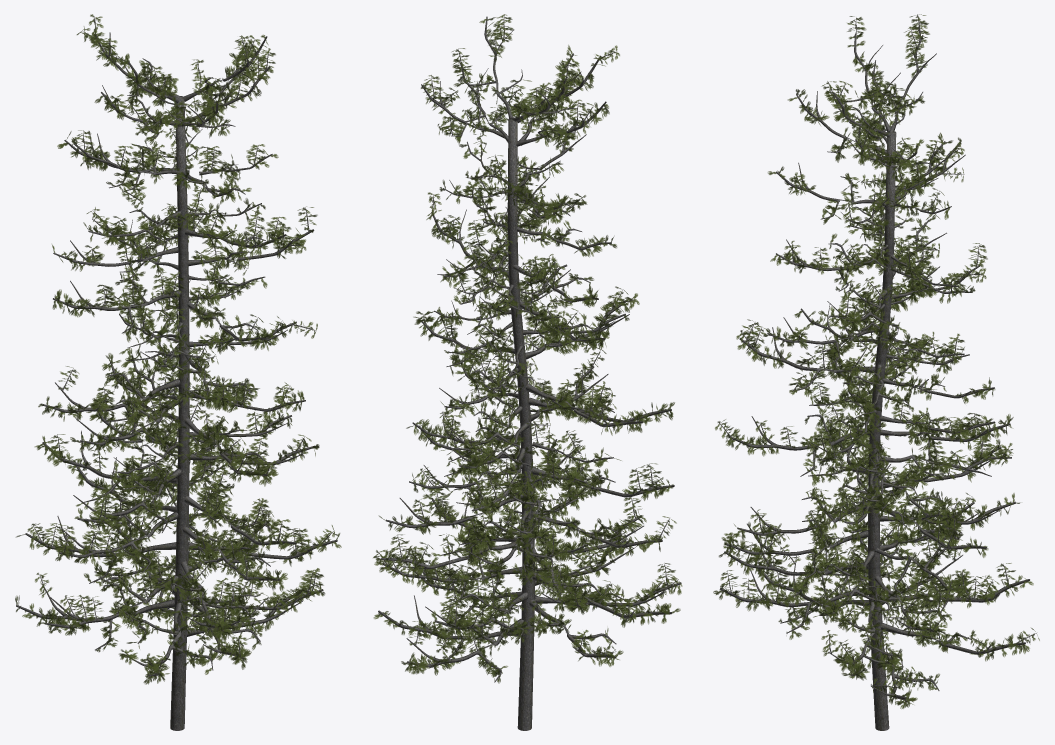
File: cedre-2.glb
3 views of the same model, side by side, from view 1: azimuth 30°, elevation 25°; view 2: azimuth 150°, elevation 25°; view 3: azimuth 270°, elevation 25° (orthographic). The views are drawn at different scales.
Parts seen in each view (by area): view 1: Plane.008; view 2: Plane.008; view 3: Plane.008.
Part boxes in pixels (x1,y1,x2,y2): Plane.008: (15,14,341,730); Plane.008: (373,14,682,730); Plane.008: (713,14,1039,730).
Size of the model in its own units: 14.58 by 34.13 by 14.86.
2 materials, 2 textured.
